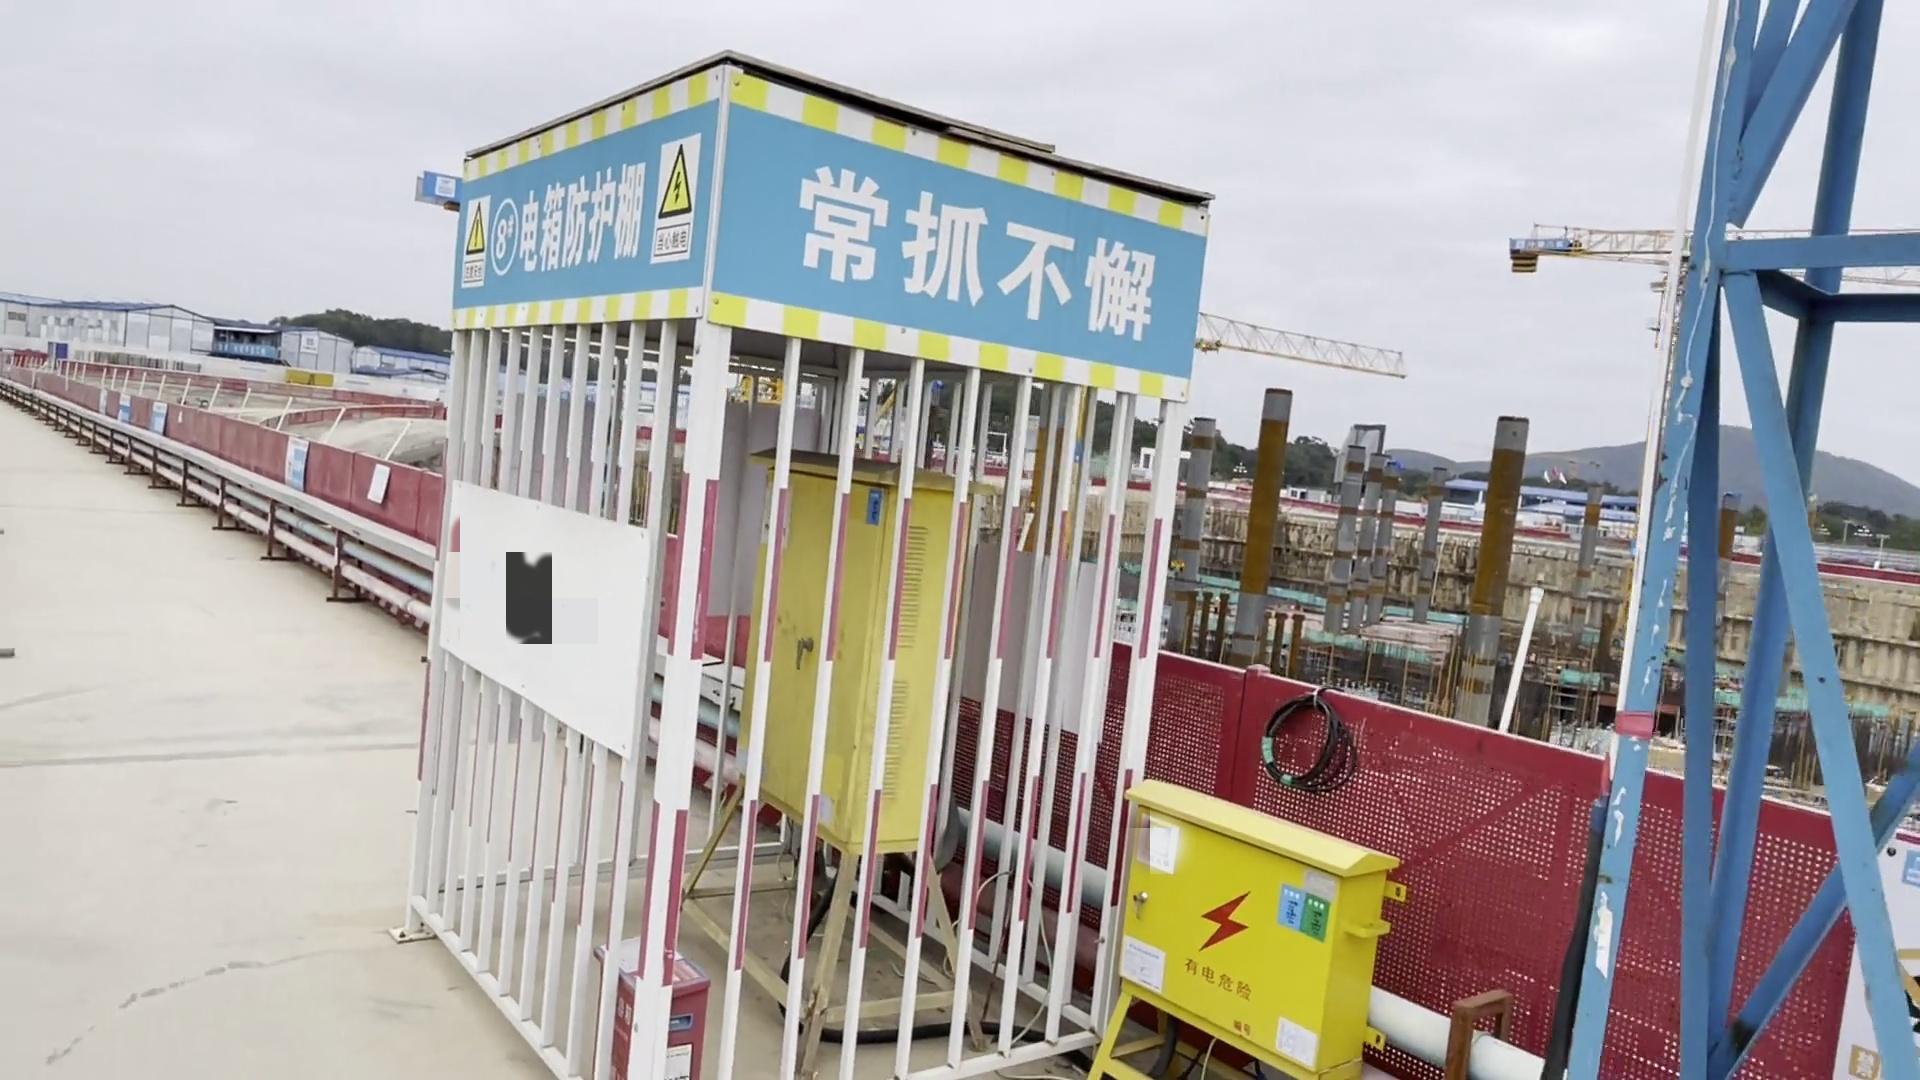ebox: (688, 419, 1033, 1054), (1075, 767, 1428, 1080)
